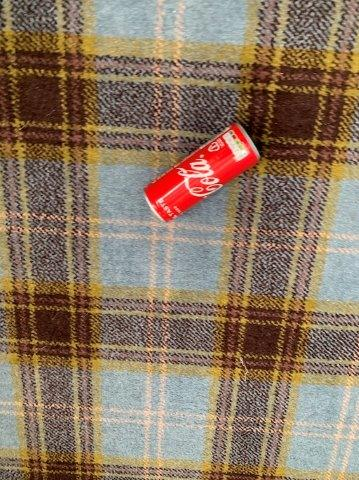kaleng: (146, 124, 259, 221)
